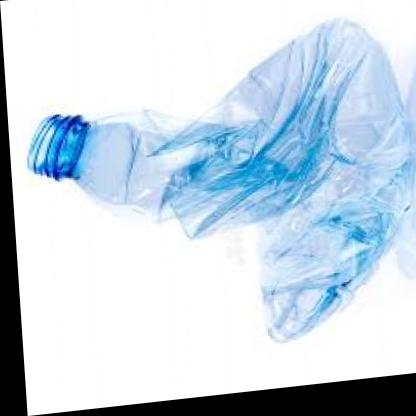Plastic: (17, 4, 416, 384)
